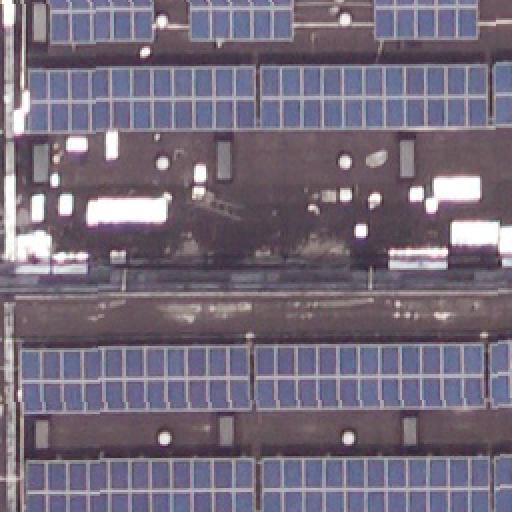solar-panel: (254, 339, 486, 413), (21, 342, 251, 414), (26, 65, 254, 135), (257, 64, 487, 132), (23, 458, 257, 510), (258, 458, 490, 510), (48, 0, 152, 44), (372, 0, 476, 40), (189, 0, 291, 40), (488, 337, 512, 407), (492, 63, 512, 129), (492, 457, 512, 511)
